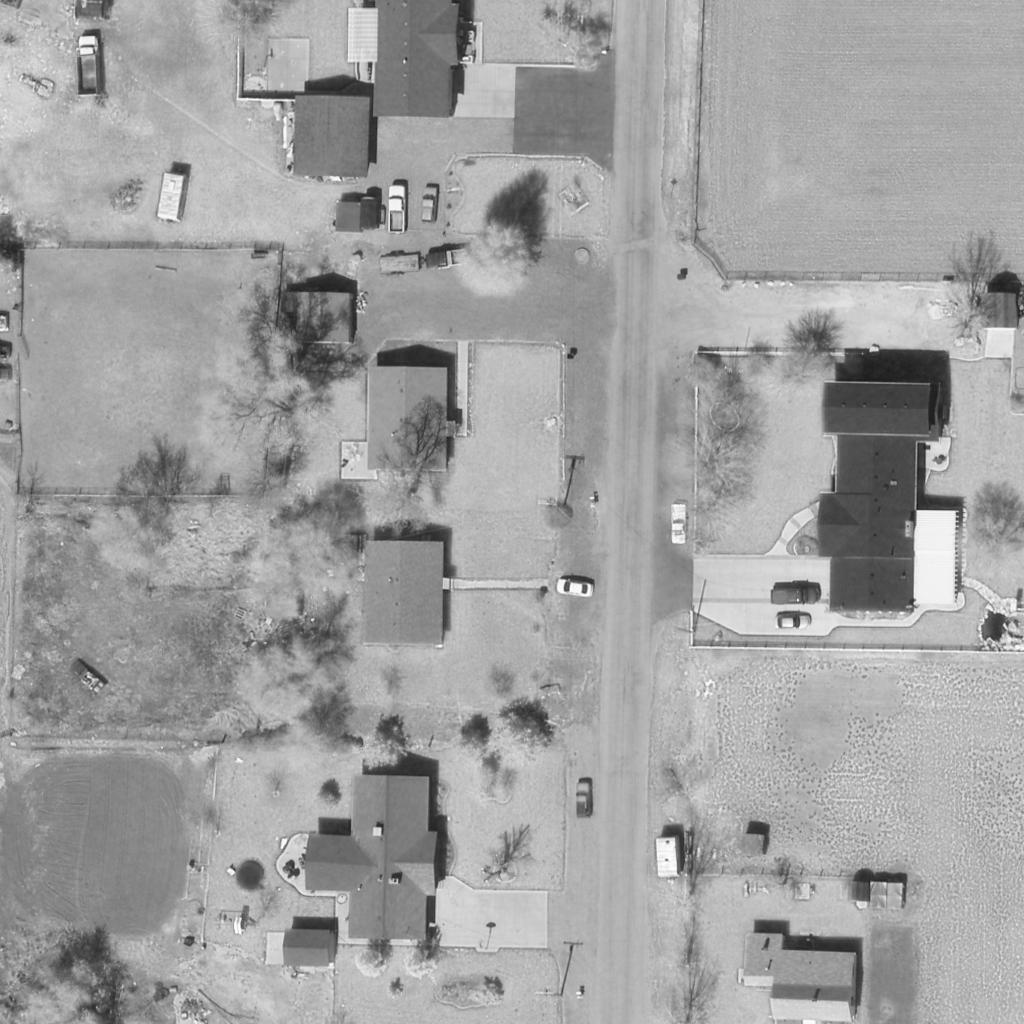vehicle: (76, 38, 104, 98), (156, 173, 188, 221), (70, 659, 108, 697), (16, 70, 58, 100), (655, 838, 681, 880), (553, 577, 597, 601), (426, 251, 478, 271), (770, 587, 820, 607), (390, 186, 408, 236), (420, 187, 440, 225), (671, 505, 689, 545), (576, 782, 592, 820), (776, 615, 810, 629)
